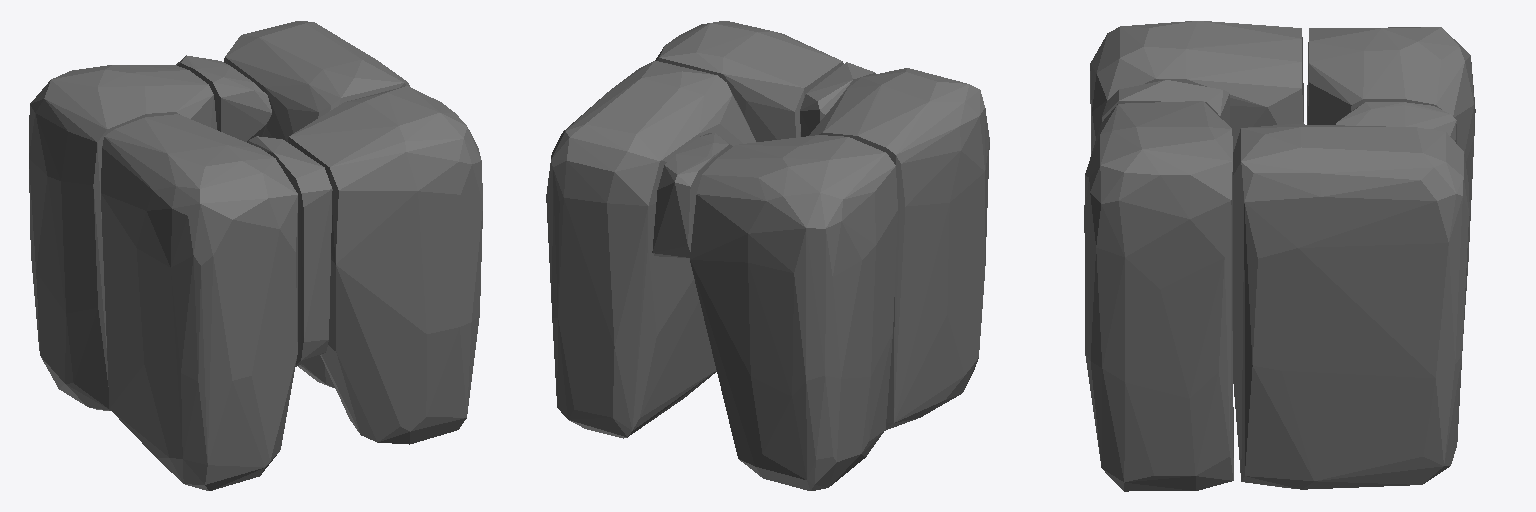
The robot description file, URDF, robot "rubik_cube_005":
<?xml version="1.0" ?>
<robot name="rubik_cube_005">
  <material name="color">
    <color rgba=".5 .5 .5 1"/>
  </material>

  <link name="base_link">
    <contact>
      <lateral_friction value="1.0"/>
      <rolling_friction value="0.001"/>
      <spinning_friction value="0.001"/>
      <inertia_scaling value="1.0"/>
    </contact>
    <inertial>
      <origin rpy="0 0 0" xyz="-0.000542088 -0.00173848 0.00482413"/>
       <mass value="0.1"/>
       <inertia ixx="1" ixy="0" ixz="0" iyy="1" iyz="0" izz="1"/>
    </inertial>

    <visual>
      <origin rpy="0 0 0" xyz="0 0 0"/>
      <geometry>
        <mesh filename="rubik_cube_005_vhacd_0_of_6.obj" scale="1 1 1"/>
      </geometry>
      <material name="color"/>
    </visual>
    <visual>
      <origin rpy="0 0 0" xyz="0 0 0"/>
      <geometry>
        <mesh filename="rubik_cube_005_vhacd_1_of_6.obj" scale="1 1 1"/>
      </geometry>
      <material name="color"/>
    </visual>
    <visual>
      <origin rpy="0 0 0" xyz="0 0 0"/>
      <geometry>
        <mesh filename="rubik_cube_005_vhacd_2_of_6.obj" scale="1 1 1"/>
      </geometry>
      <material name="color"/>
    </visual>
    <visual>
      <origin rpy="0 0 0" xyz="0 0 0"/>
      <geometry>
        <mesh filename="rubik_cube_005_vhacd_3_of_6.obj" scale="1 1 1"/>
      </geometry>
      <material name="color"/>
    </visual>
    <visual>
      <origin rpy="0 0 0" xyz="0 0 0"/>
      <geometry>
        <mesh filename="rubik_cube_005_vhacd_4_of_6.obj" scale="1 1 1"/>
      </geometry>
      <material name="color"/>
    </visual>
    <visual>
      <origin rpy="0 0 0" xyz="0 0 0"/>
      <geometry>
        <mesh filename="rubik_cube_005_vhacd_5_of_6.obj" scale="1 1 1"/>
      </geometry>
      <material name="color"/>
    </visual>

    <collision>
      <origin rpy="0 0 0" xyz="0 0 0"/>
      <geometry>
        <mesh filename="rubik_cube_005_vhacd_0_of_6.obj" scale="1 1 1"/>
      </geometry>
    </collision>
    <collision>
      <origin rpy="0 0 0" xyz="0 0 0"/>
      <geometry>
        <mesh filename="rubik_cube_005_vhacd_1_of_6.obj" scale="1 1 1"/>
      </geometry>
    </collision>
    <collision>
      <origin rpy="0 0 0" xyz="0 0 0"/>
      <geometry>
        <mesh filename="rubik_cube_005_vhacd_2_of_6.obj" scale="1 1 1"/>
      </geometry>
    </collision>
    <collision>
      <origin rpy="0 0 0" xyz="0 0 0"/>
      <geometry>
        <mesh filename="rubik_cube_005_vhacd_3_of_6.obj" scale="1 1 1"/>
      </geometry>
    </collision>
    <collision>
      <origin rpy="0 0 0" xyz="0 0 0"/>
      <geometry>
        <mesh filename="rubik_cube_005_vhacd_4_of_6.obj" scale="1 1 1"/>
      </geometry>
    </collision>
    <collision>
      <origin rpy="0 0 0" xyz="0 0 0"/>
      <geometry>
        <mesh filename="rubik_cube_005_vhacd_5_of_6.obj" scale="1 1 1"/>
      </geometry>
    </collision>

  </link>
</robot>

--- Facts derived from the render (not from the file) ---
Views: 3 orthographic renders of the robot side by side, from view 1: azimuth 30°, elevation 25°; view 2: azimuth 150°, elevation 25°; view 3: azimuth 270°, elevation 25°.
Model rubik_cube_005 with 1 links and 0 joints (none), rooted at base_link, posed all joints at 0.
Visible links, largest first — view 1: base_link; view 2: base_link; view 3: base_link.
Boxes of the visible links, x1,y1,x2,y2 form: base_link: [29, 21, 482, 490]; base_link: [546, 21, 989, 490]; base_link: [1084, 21, 1475, 491].
Bounding box of the posed robot: 0.1207 × 0.1247 × 0.1203 m (x, y, z).
6 mesh visuals loaded from 6 distinct referenced files (6 OBJ).